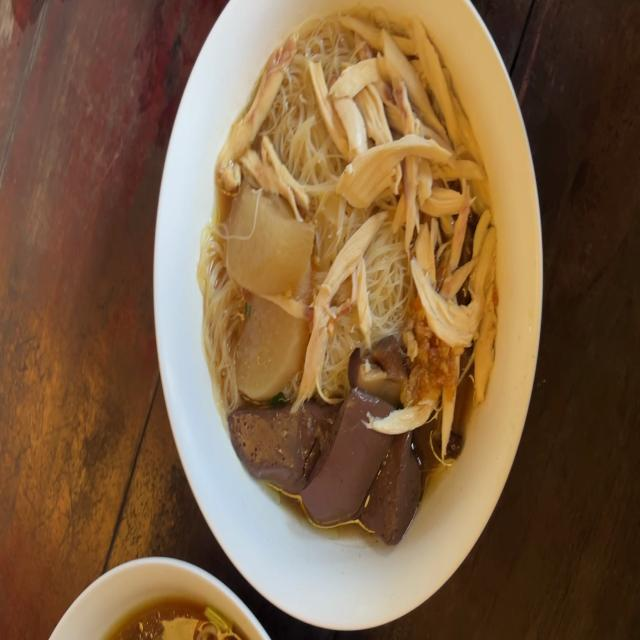boiled_chicken_blood_jelly: (307, 392, 377, 526), (231, 398, 328, 488), (370, 421, 420, 537)
chicken_shredded: (317, 18, 498, 408), (302, 208, 390, 396), (218, 46, 284, 188)
daikon_radish: (227, 196, 316, 300), (227, 305, 302, 399)
noodle: (196, 2, 509, 554)
